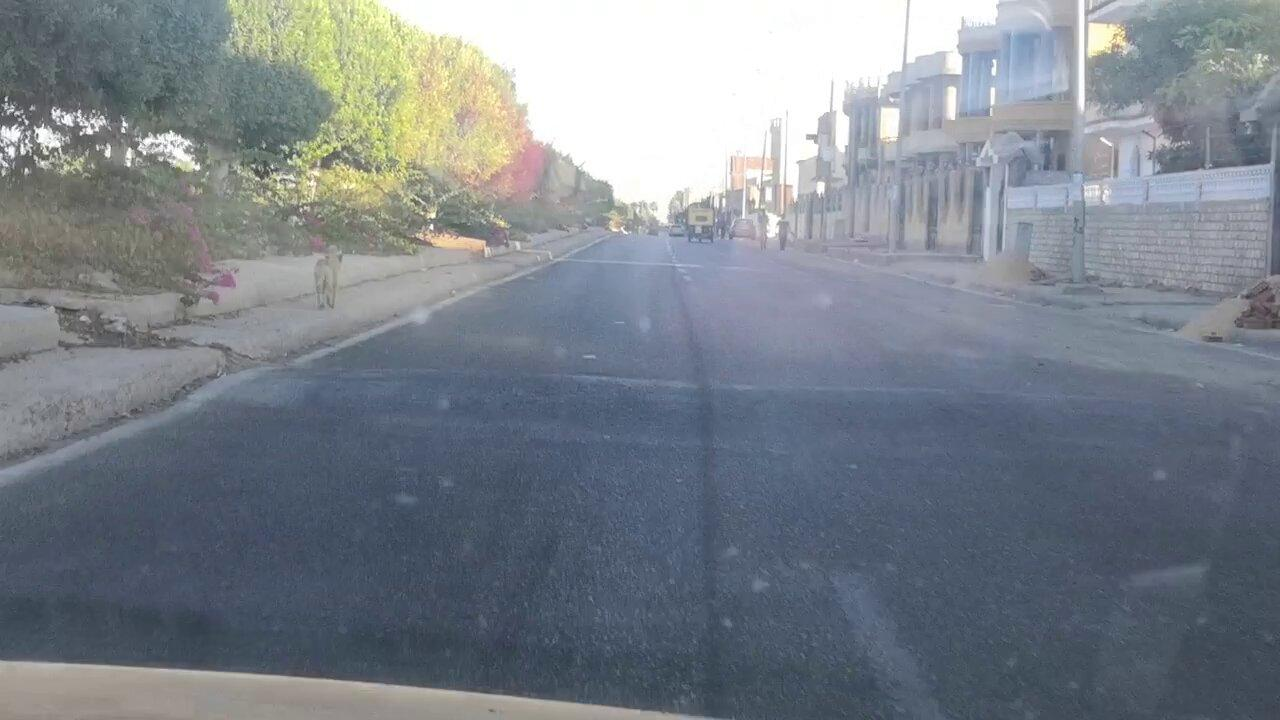Bump: (210, 360, 1280, 445)
